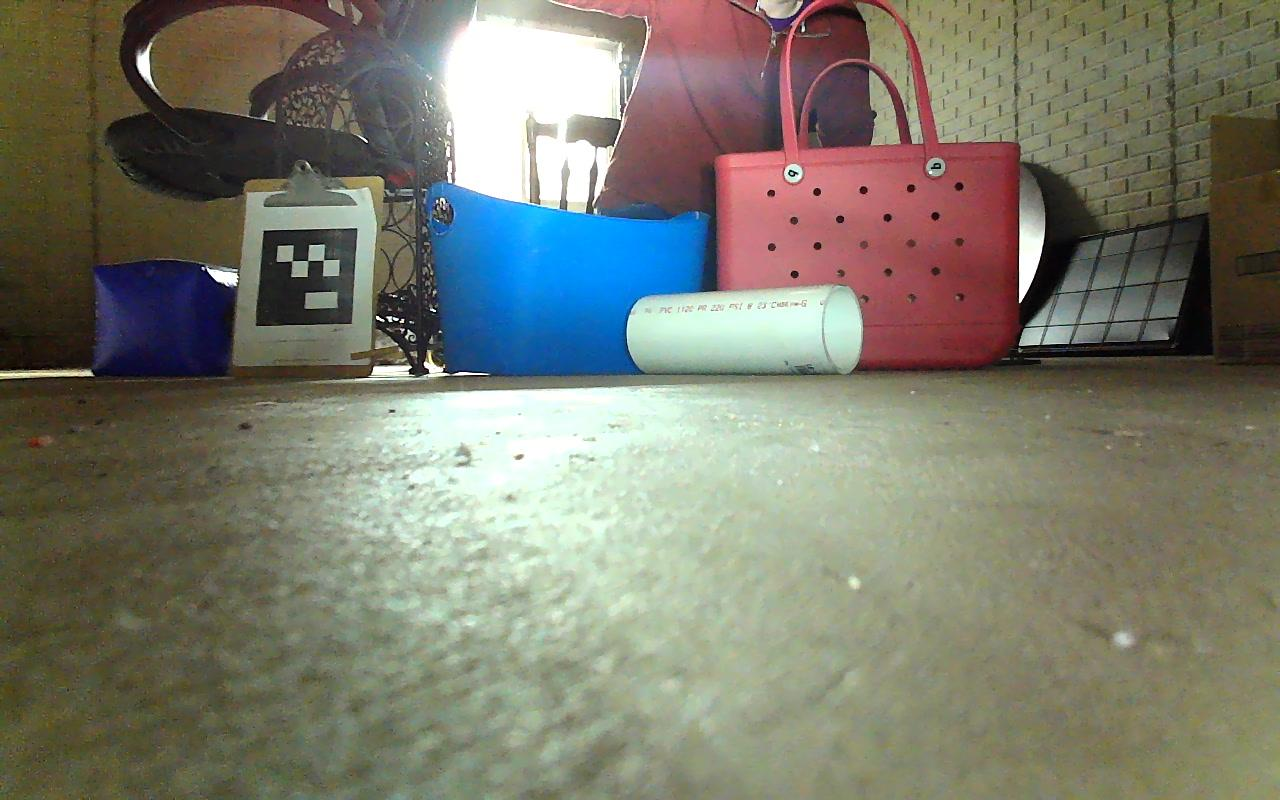coral: (626, 283, 864, 374)
